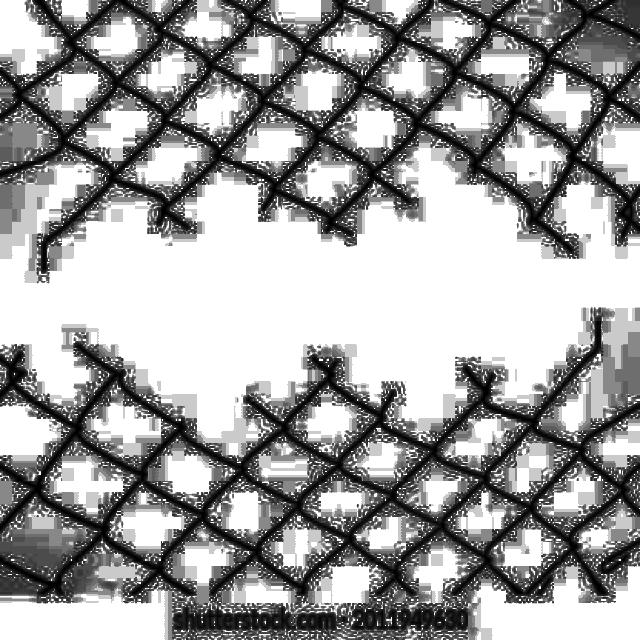anomaly-fence: (0, 109, 628, 459)
